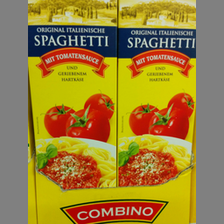pasta: (28, 1, 117, 189), (117, 1, 196, 186)
